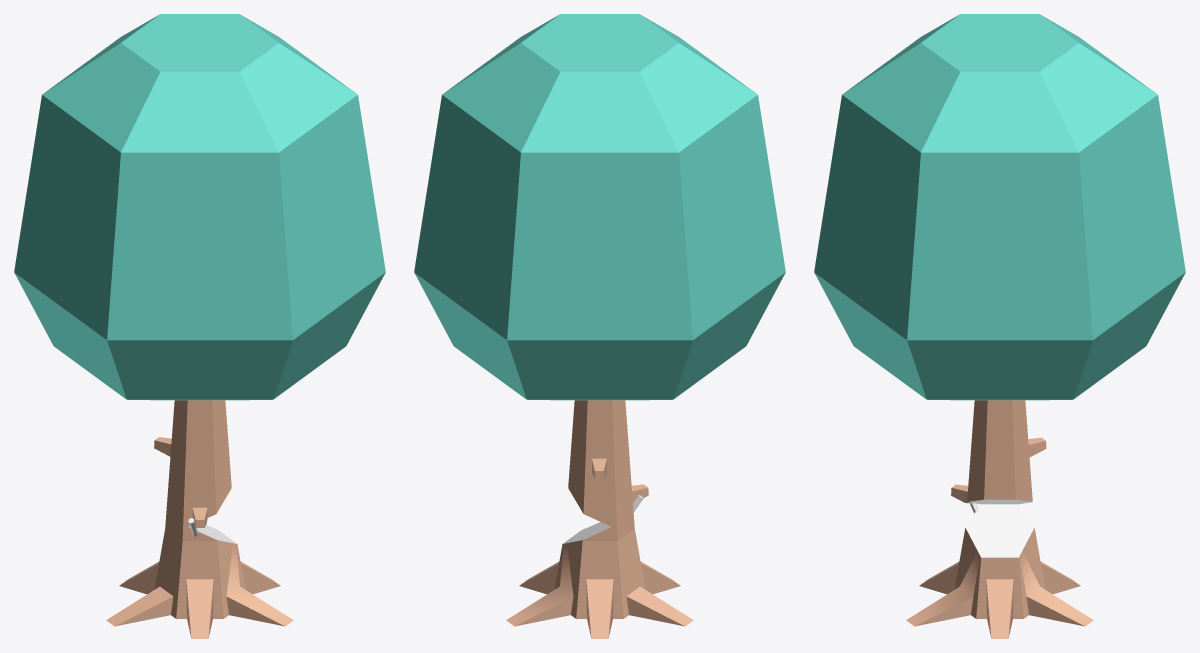
Rendered from tree_stage_90.glb.
3 renders of one model, left to right at view 1: azimuth 30°, elevation 25°; view 2: azimuth 150°, elevation 25°; view 3: azimuth 270°, elevation 25°, orthographic.
Visible parts, largest first — view 1: TreeStage90; view 2: TreeStage90; view 3: TreeStage90.
Boxes of the visible parts, x1,y1,x2,y2 form: TreeStage90: [14, 14, 385, 638]; TreeStage90: [414, 14, 785, 638]; TreeStage90: [814, 14, 1185, 638].
Size of the model in its own units: 3.36 by 6.44 by 3.88.
